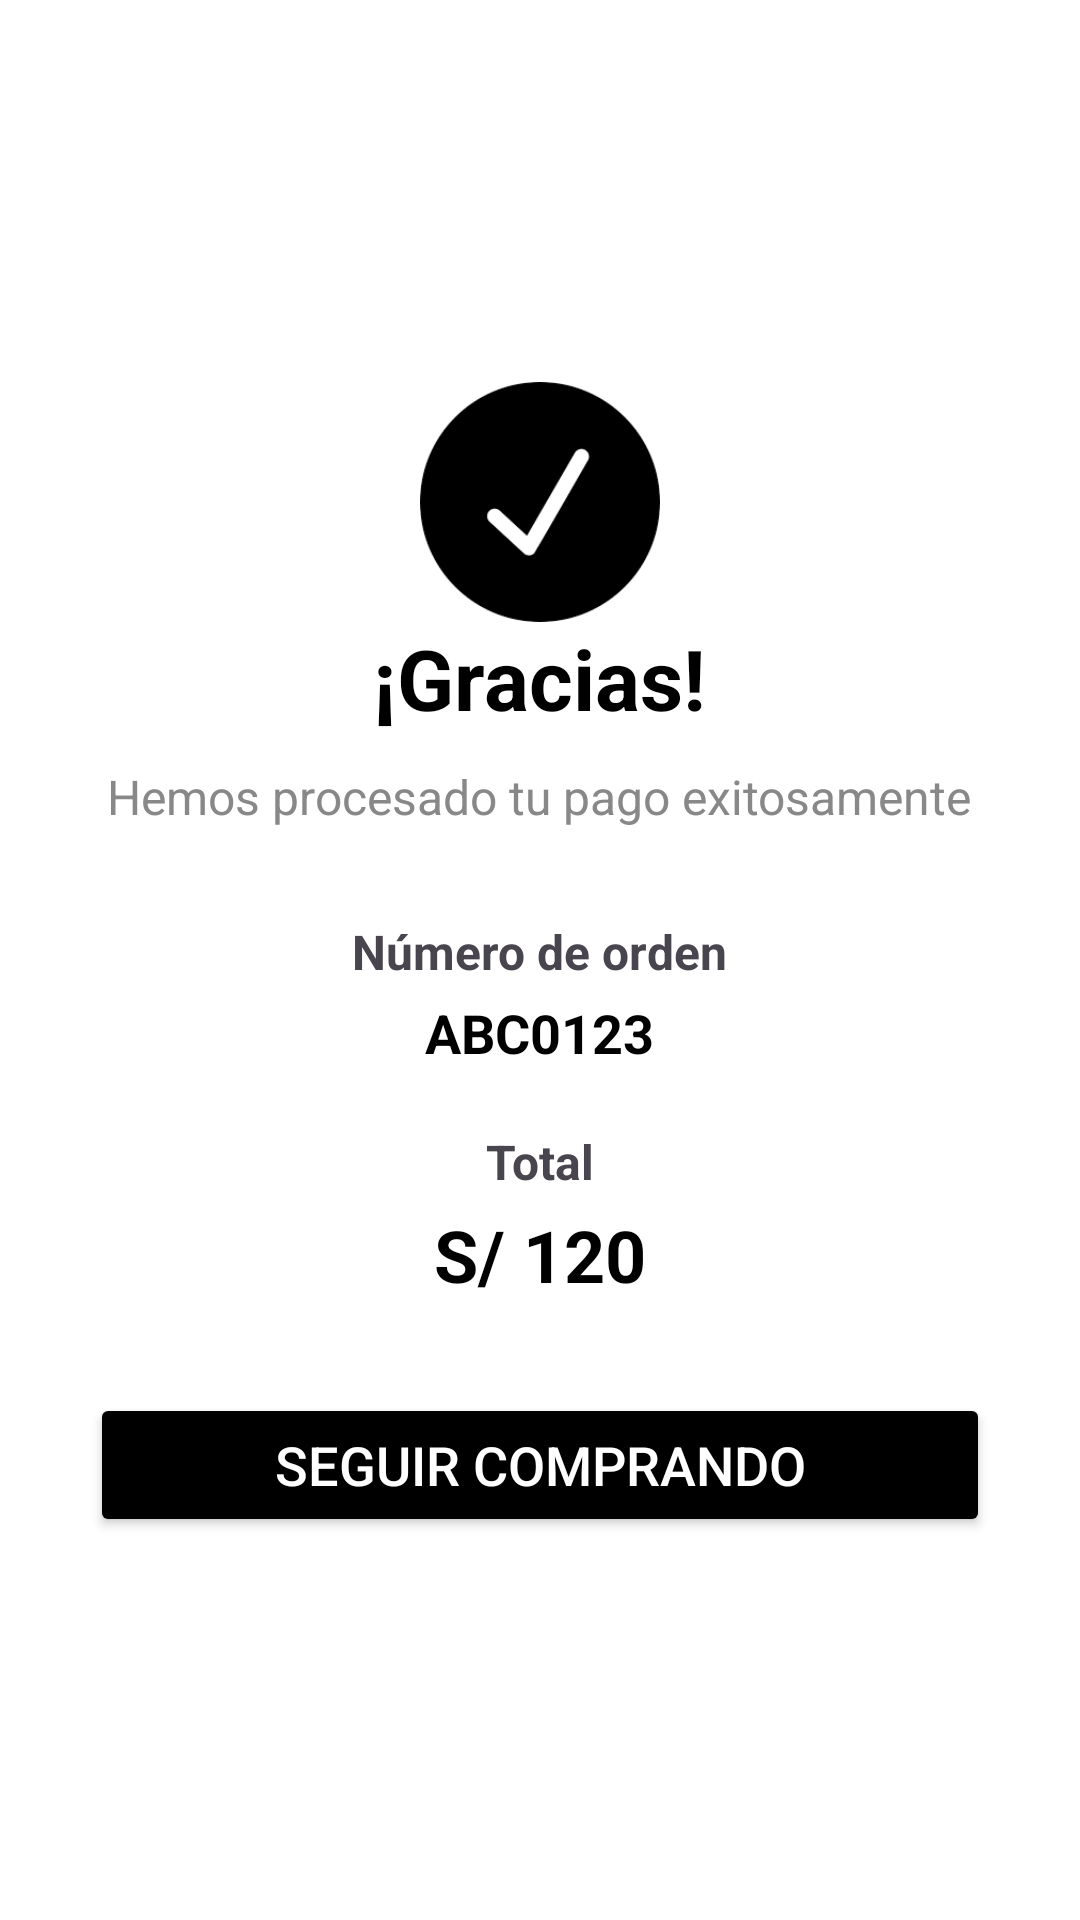

Where to tap for icons on this 1080w x 1920h app screen, as (x,y):
check: (540,502)
